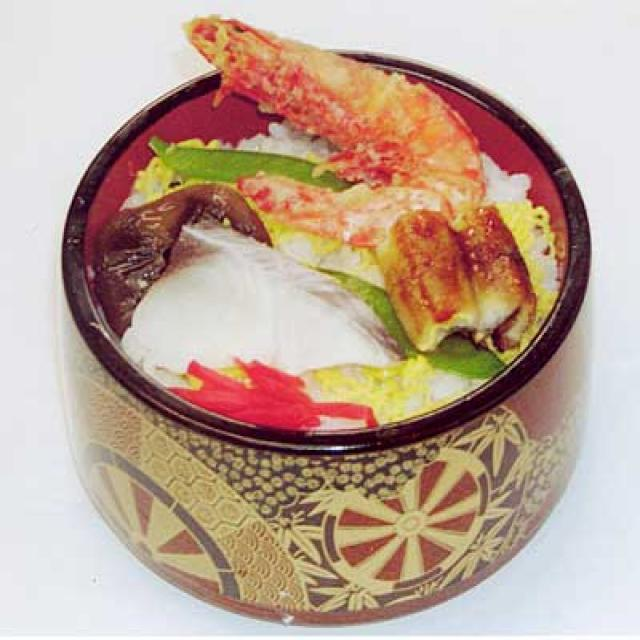寿司卷物: (40, 0, 600, 640)
